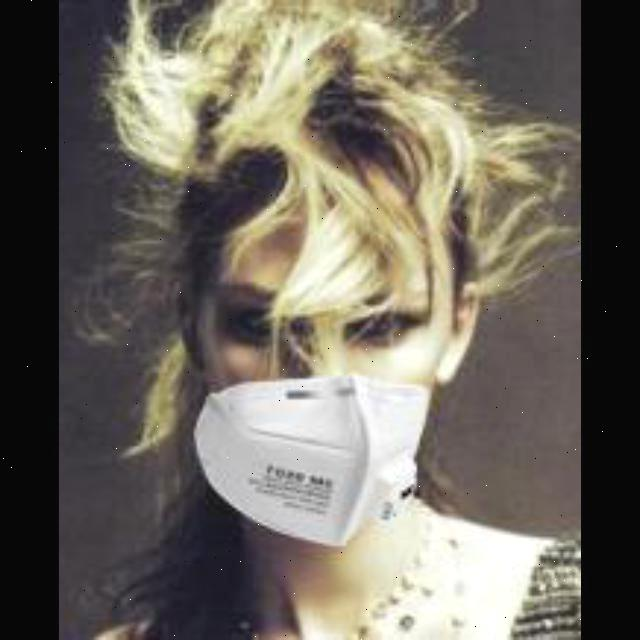suspicion: (146, 70, 488, 558)
